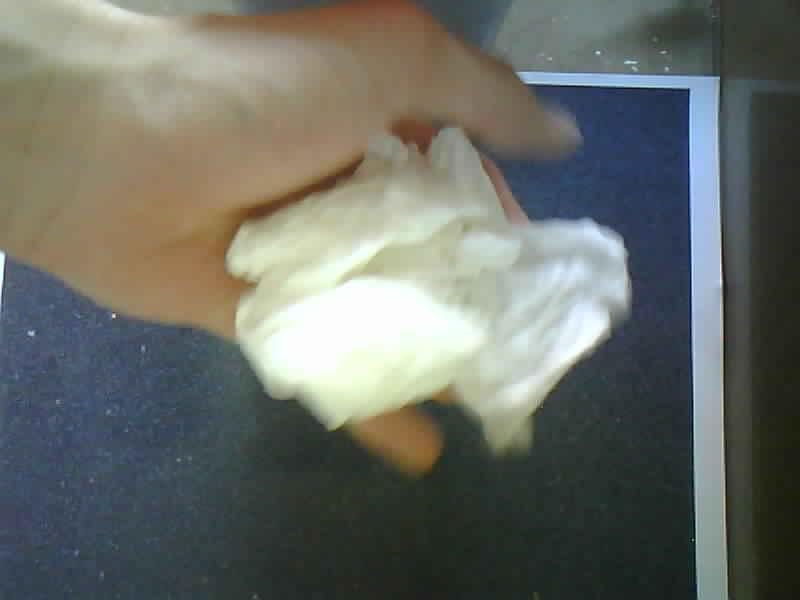paper: (228, 128, 630, 453)
